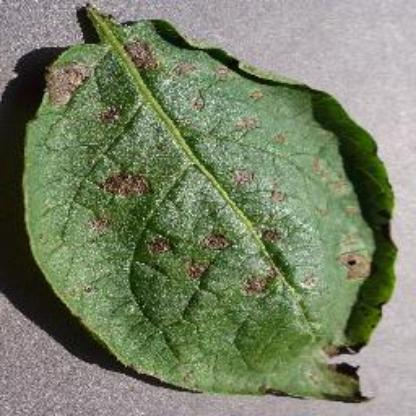Early-Blight: (22, 8, 386, 402)
